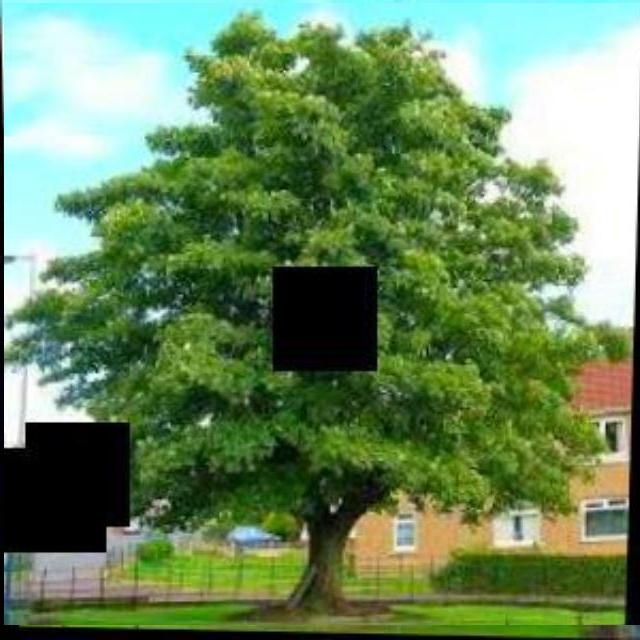tree: (4, 3, 640, 625)
